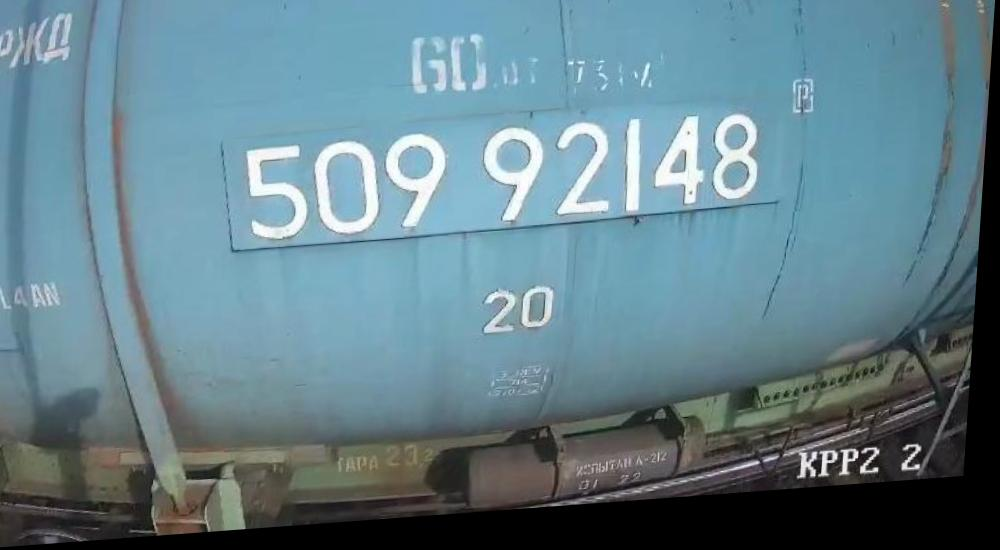Wagon-number: (235, 111, 771, 251)
